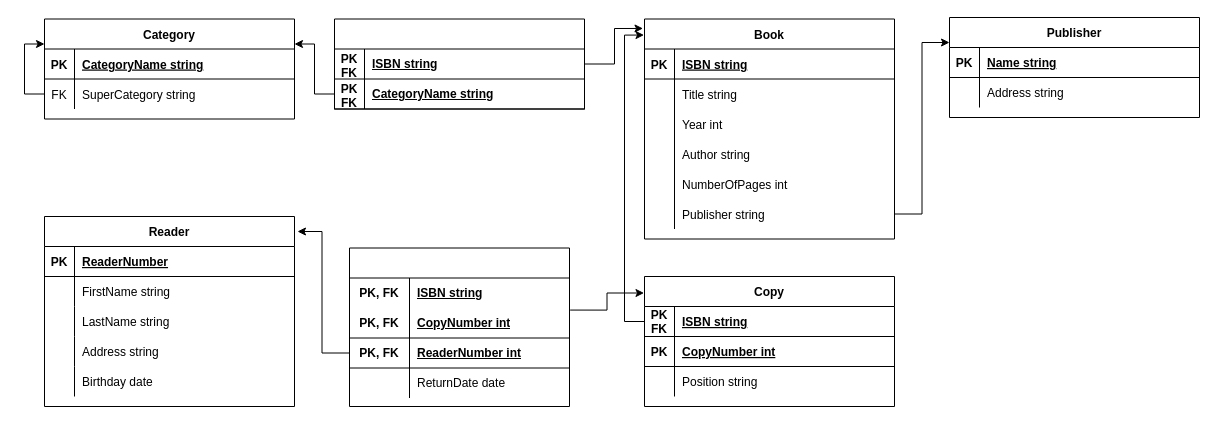
This 1217x424 diagram has some shape labels left out. Here are the shapes that lost their labels. From the top down, the box of each, then its label:
(334, 18, 584, 109): BookCategory
(348, 247, 570, 406): CopyBorrows
